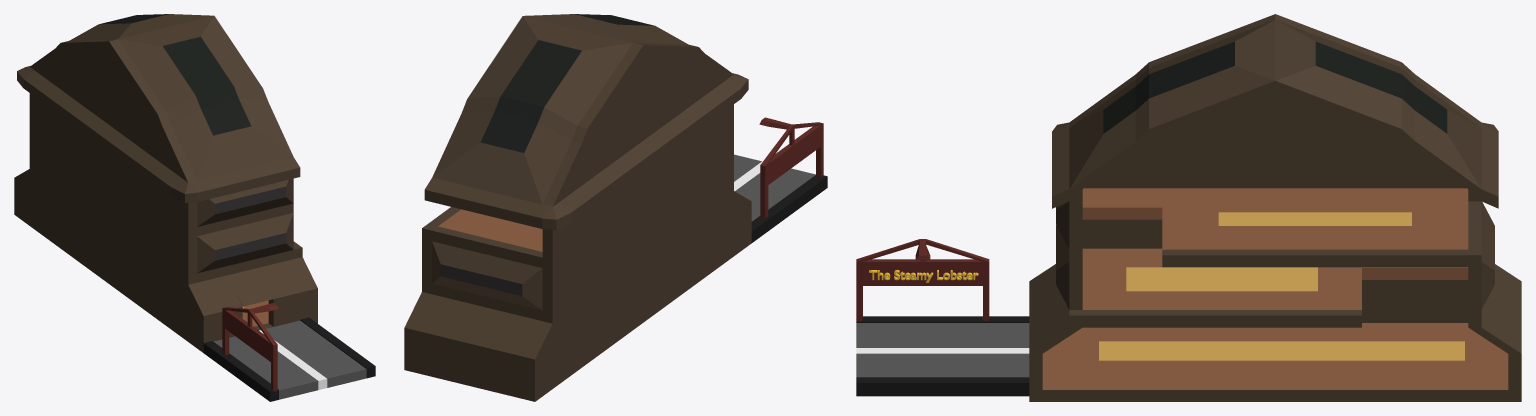
The model's file is ChunkHouse.fbx.
3 views of the same model, side by side, from view 1: azimuth 30°, elevation 25°; view 2: azimuth 150°, elevation 25°; view 3: azimuth 270°, elevation 25° (orthographic). The views are drawn at different scales.
Visible parts, largest first — view 1: HouseAndRoad, SignWithLight; view 2: HouseAndRoad, SignWithLight; view 3: HouseAndRoad, SignWithLight, Text.
Boxes of the visible parts, <box> form: HouseAndRoad: <box>14,14,375,401</box>; SignWithLight: <box>222,303,278,391</box>; HouseAndRoad: <box>404,14,827,401</box>; SignWithLight: <box>759,117,823,217</box>; HouseAndRoad: <box>856,14,1521,401</box>; SignWithLight: <box>856,239,989,320</box>; Text: <box>869,270,978,282</box>.
Size of the model in its own units: 5000 by 1419 by 2617.
